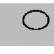no answer: (20, 9, 52, 31)
